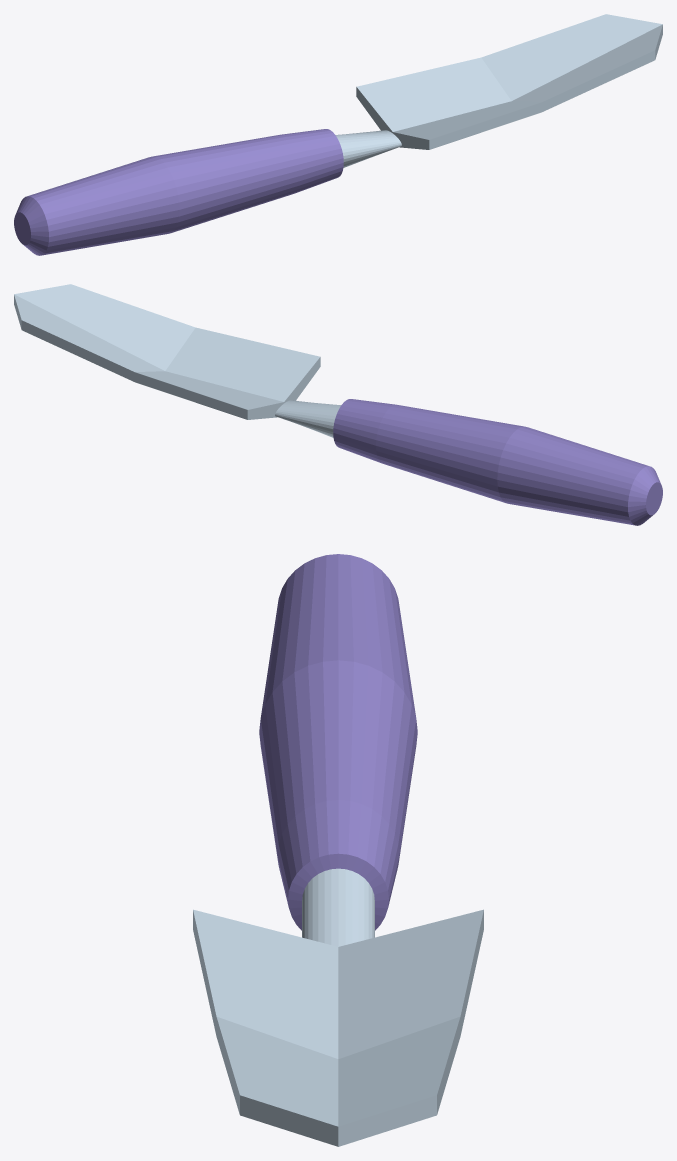
Rendered from Trowel.fbx.
3 views of the same model, one above another, from view 1: azimuth 30°, elevation 25°; view 2: azimuth 150°, elevation 25°; view 3: azimuth 270°, elevation 25° (orthographic). The views are drawn at different scales.
Parts seen in each view (by area): view 1: Trowel; view 2: Trowel; view 3: Trowel.
Boxes of the visible parts, box(x1,y1,x2,y2) form: Trowel: box(14, 14, 662, 255); Trowel: box(14, 284, 662, 525); Trowel: box(193, 554, 483, 1146).
Bounding box in the file's own units: 48.52 × 6.1 × 9.54.
